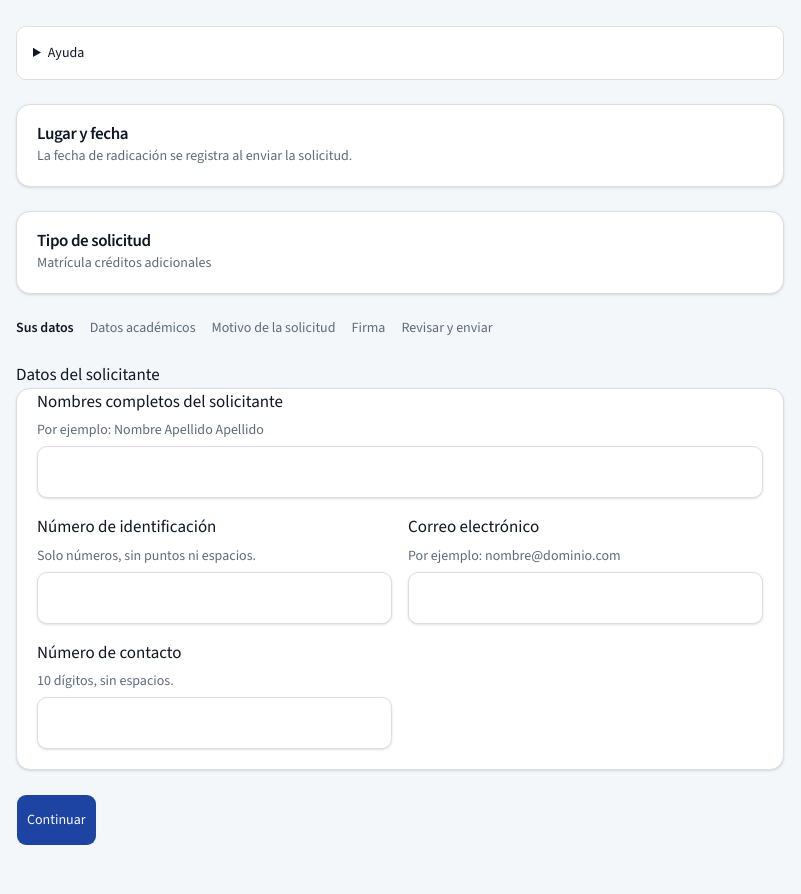
PublicAdditionalCreditsPage › shows a per-step notice listing the missing fields when Continuar fails, without duplicating the field alerts as a live region
(page scrolled)
Click the button "Continuar" at [56, 820], box [16,794,97,846]
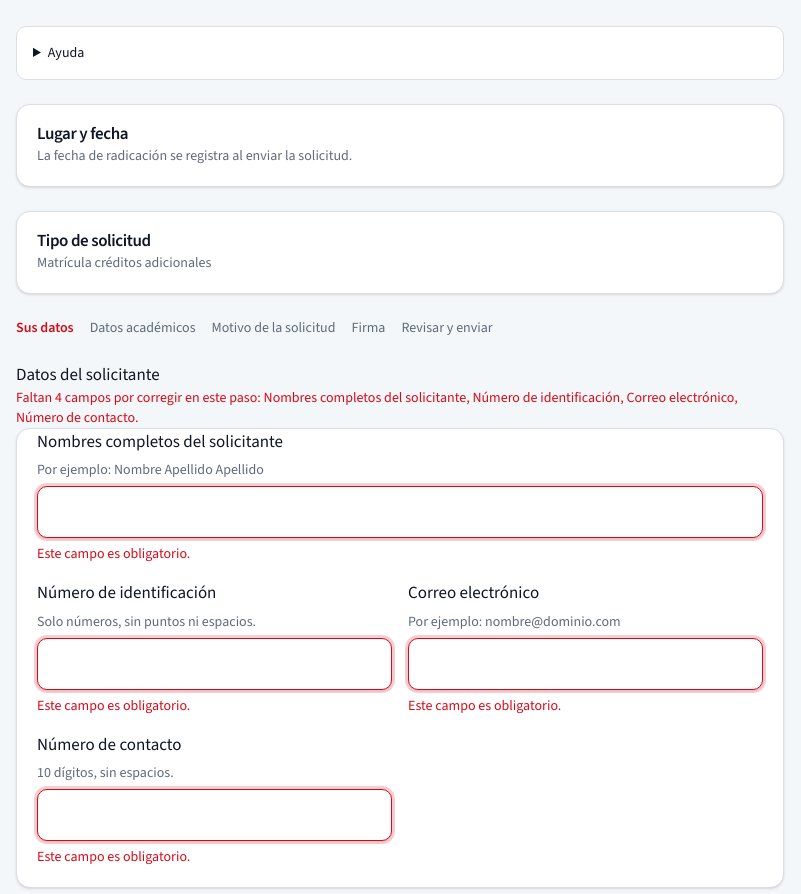
Expected: the text "Faltan 4 campos por corregir en este paso" shows "Nombres completos del solicitante", [16,388,738,426]
Expected: the text "Faltan 4 campos por corregir en este paso" shows "Correo electrónico", [16,388,738,426]
Expected: the number of messages is 4, [37,544,190,563]; [37,696,190,714]; [408,696,561,714]; [37,847,190,866]
